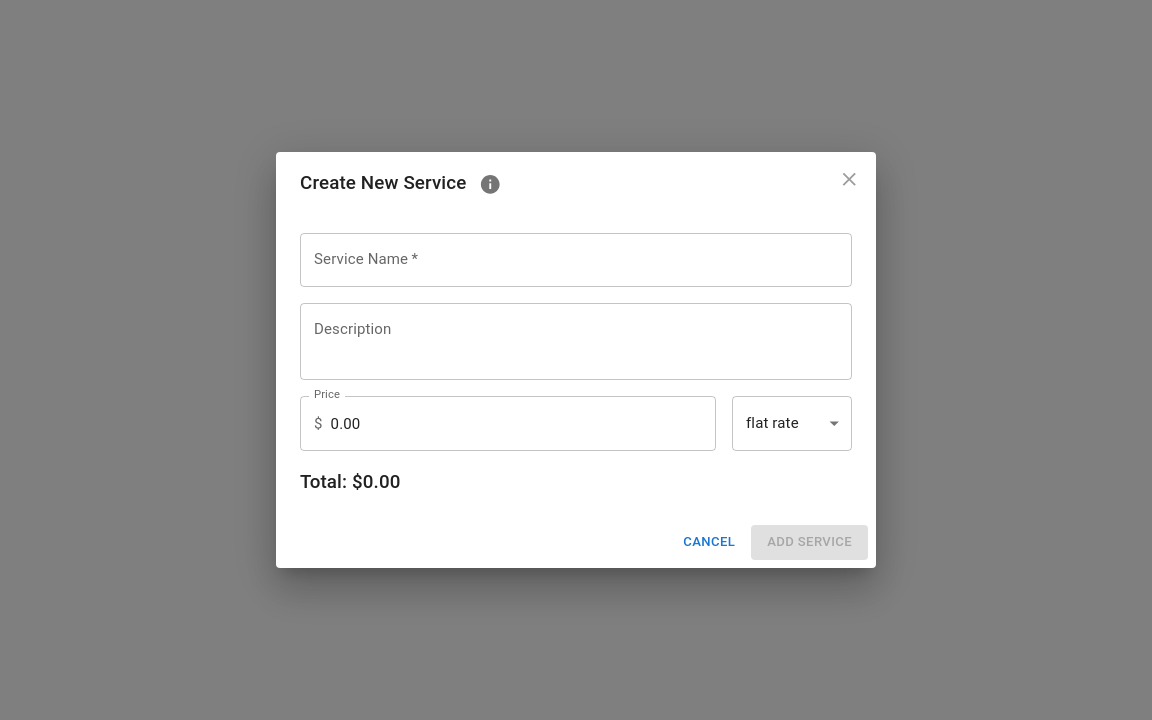
Test: Duplicate Service Name Handling › CreateServiceDialog › should clear error when user types in name field
// Fill in and submit to trigger error
Type "Existing Service" into the field labelled "Service Name *". click: (576, 260)
box: [300, 233, 852, 287]
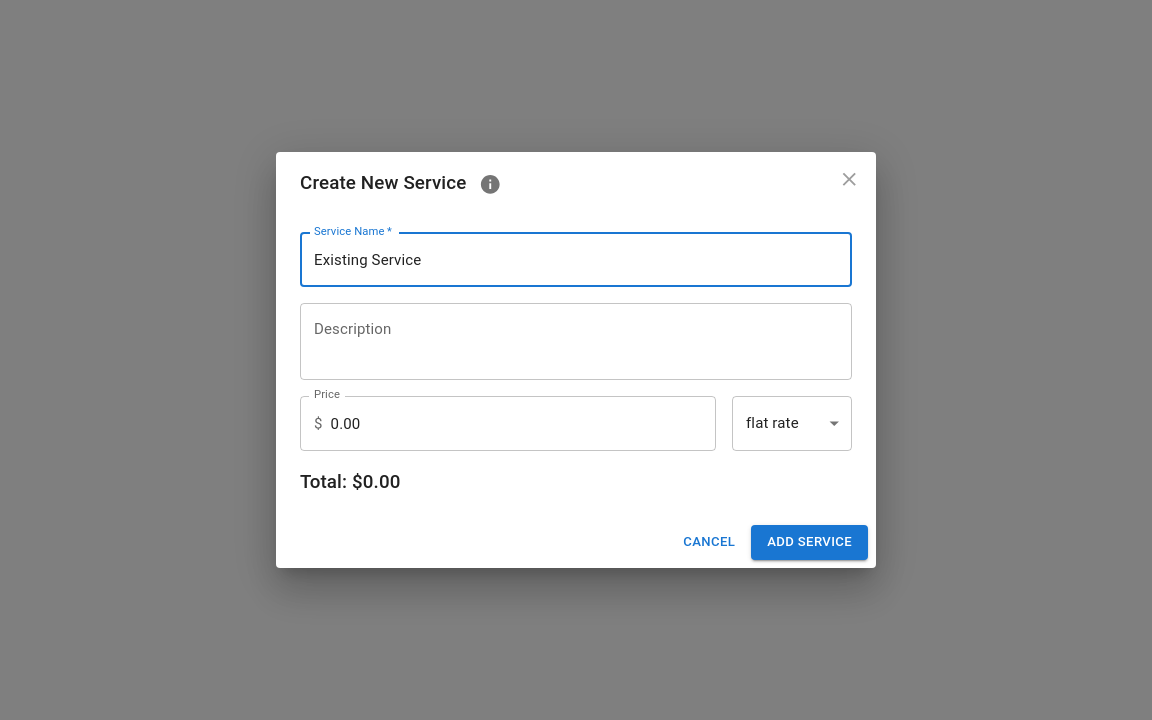
Replace the text in the field labelled "Price" with "50.00". click: (523, 424)
box: [331, 396, 716, 451]
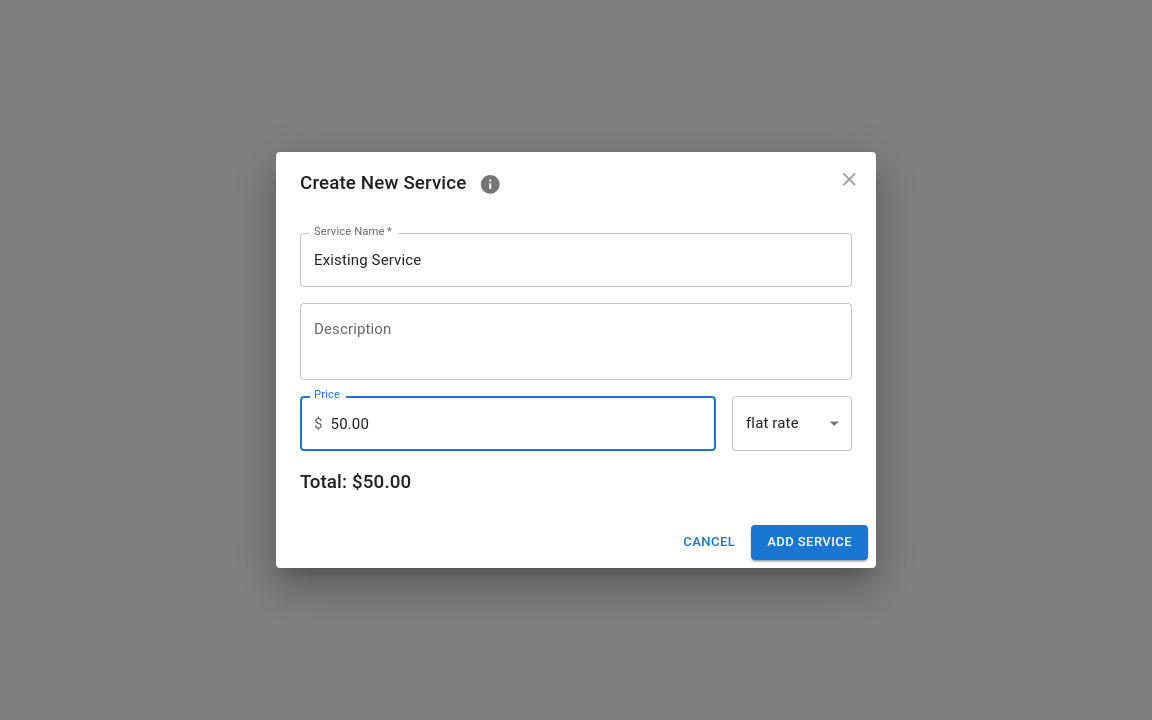
Click the button "Add Service". click: (810, 542)
box: [751, 525, 868, 560]
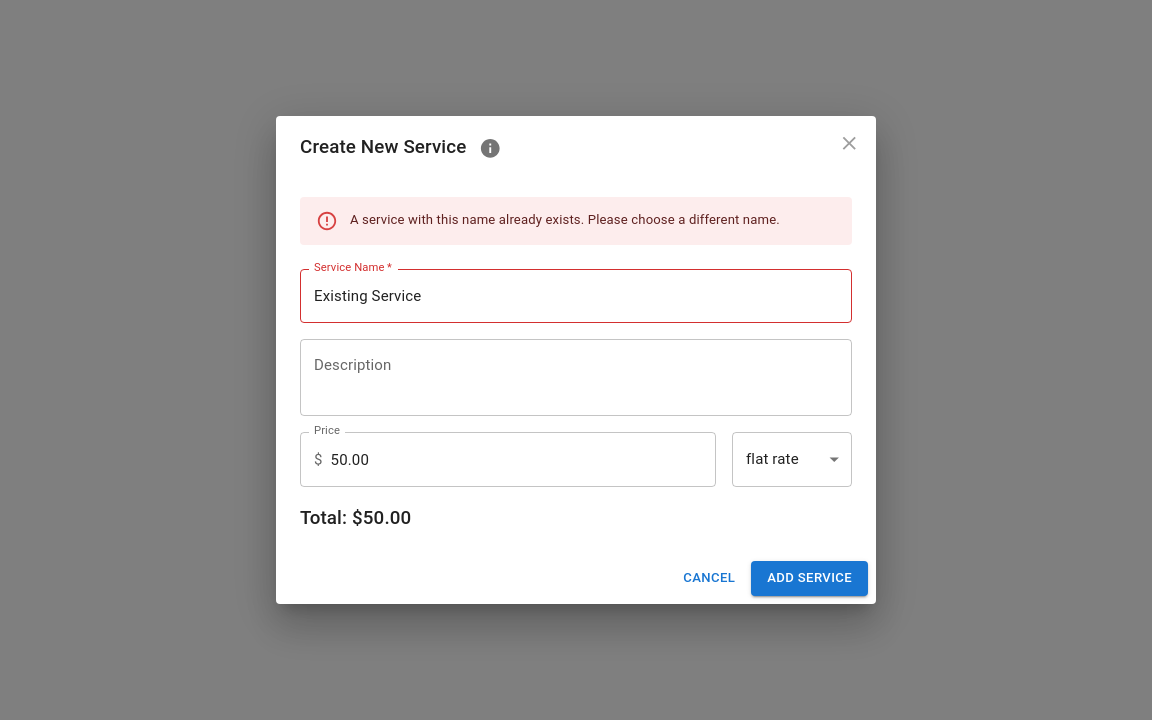
Expected: the text "A service with this name already exists" is shown, [350, 212, 780, 227]
// Type in the name field to clear error
Type " New" into the field labelled "Service Name *". click: (576, 296)
box: [300, 269, 852, 323]
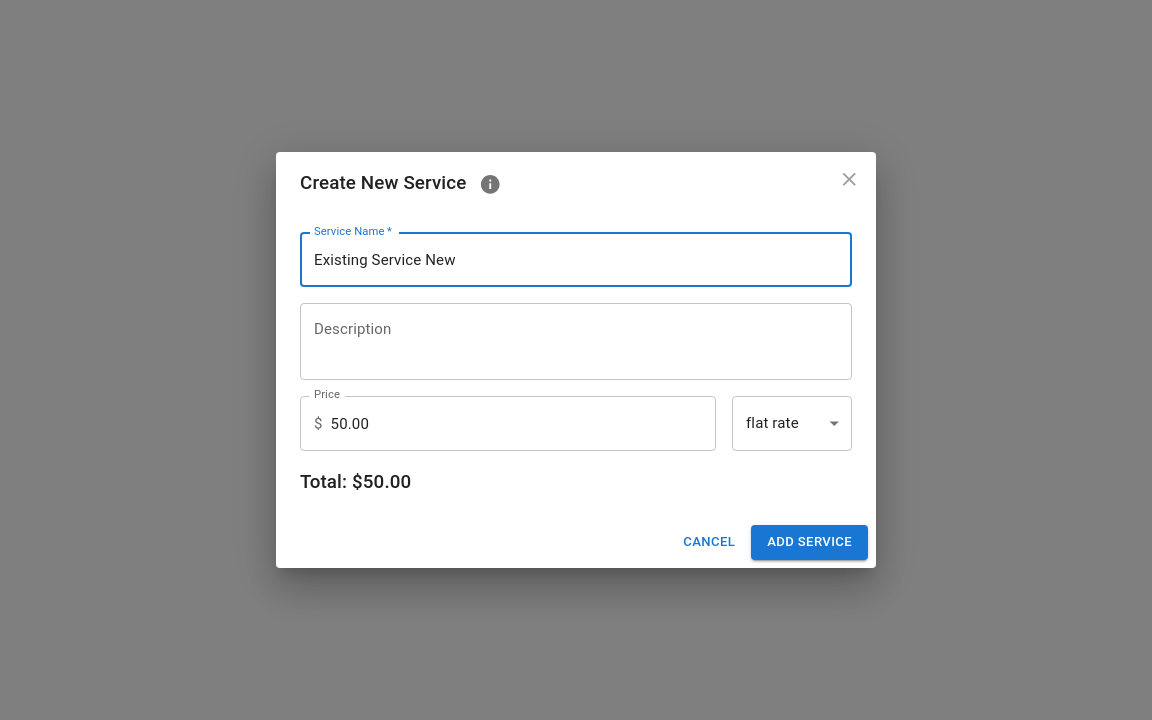
Expected: the text "A service with this name already exists" is gone
